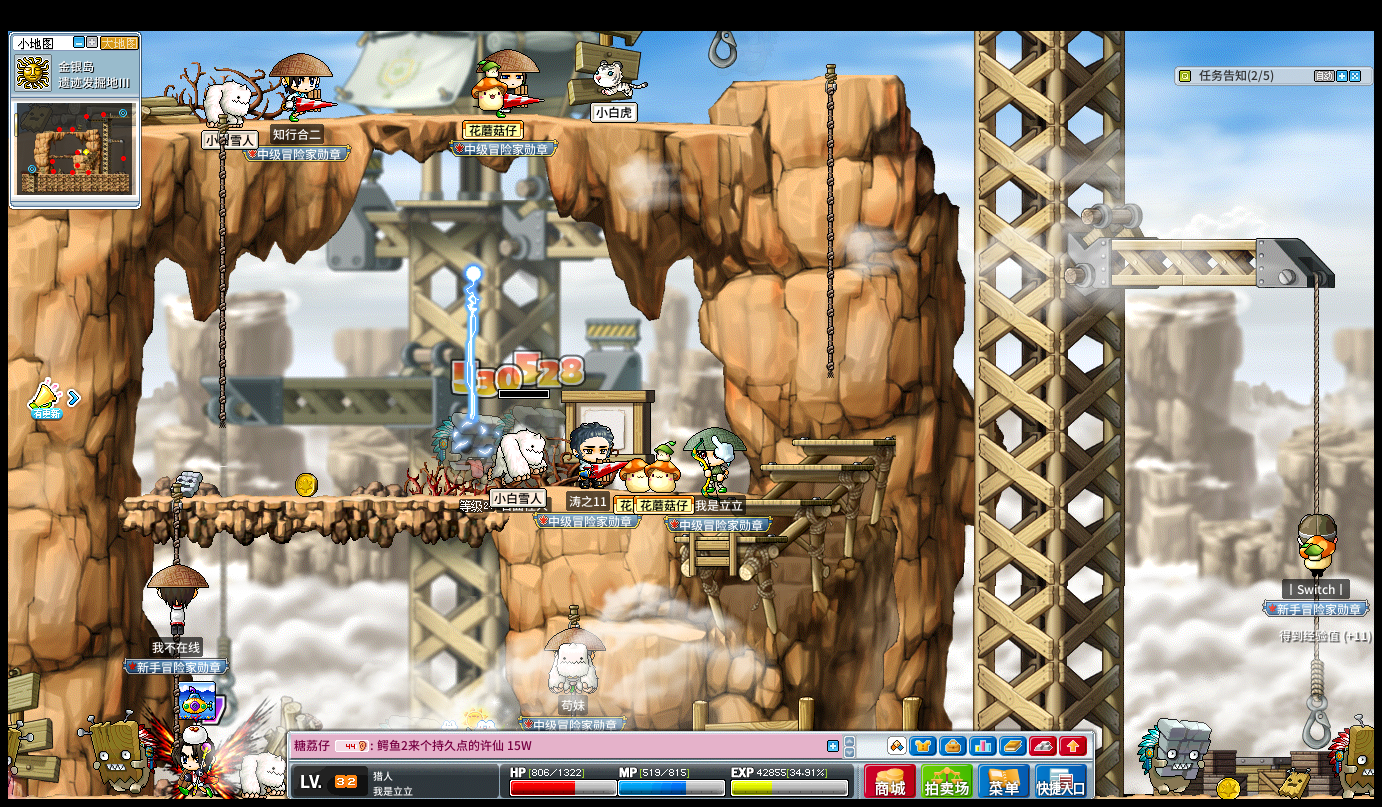floor: (122, 109, 771, 137), (115, 493, 513, 505), (1109, 234, 1308, 248), (594, 620, 708, 643), (728, 74, 907, 88), (730, 71, 904, 84), (671, 533, 789, 544), (793, 437, 894, 447), (758, 463, 872, 470), (730, 498, 832, 505)
monster: (80, 713, 158, 794), (1138, 717, 1212, 793), (432, 411, 502, 489), (1325, 717, 1382, 795)
rope: (822, 58, 837, 381), (215, 111, 226, 425), (1309, 281, 1322, 482), (168, 481, 181, 563), (1310, 642, 1323, 705), (1309, 456, 1322, 508)
